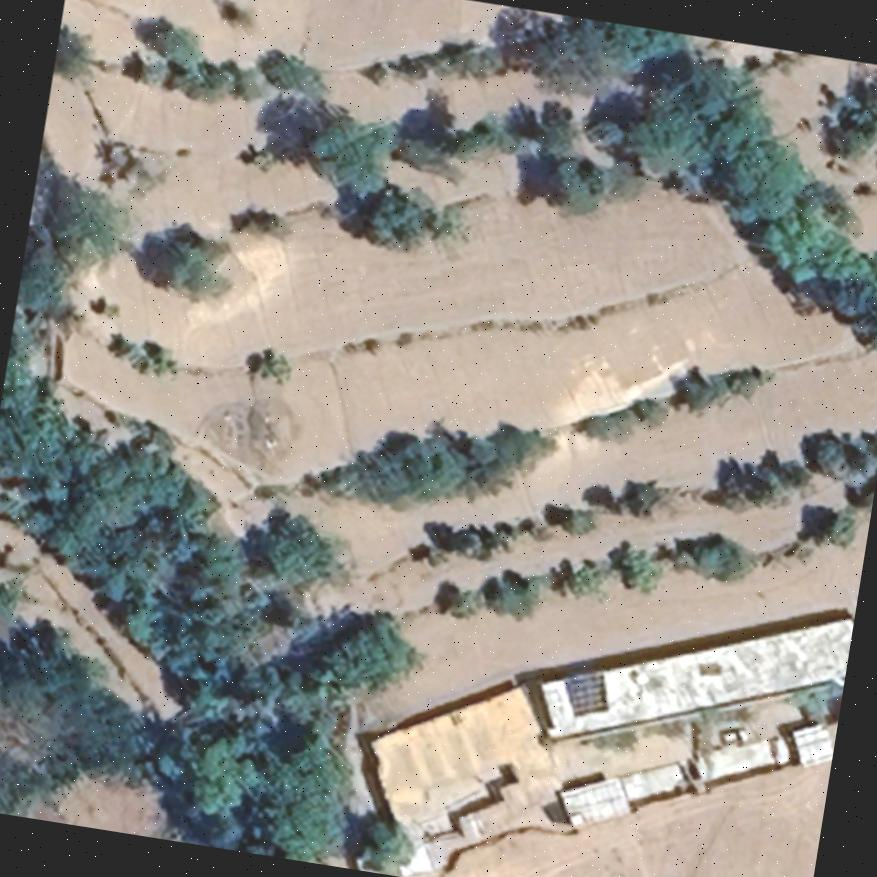Solarpanel: (555, 662, 617, 723)
